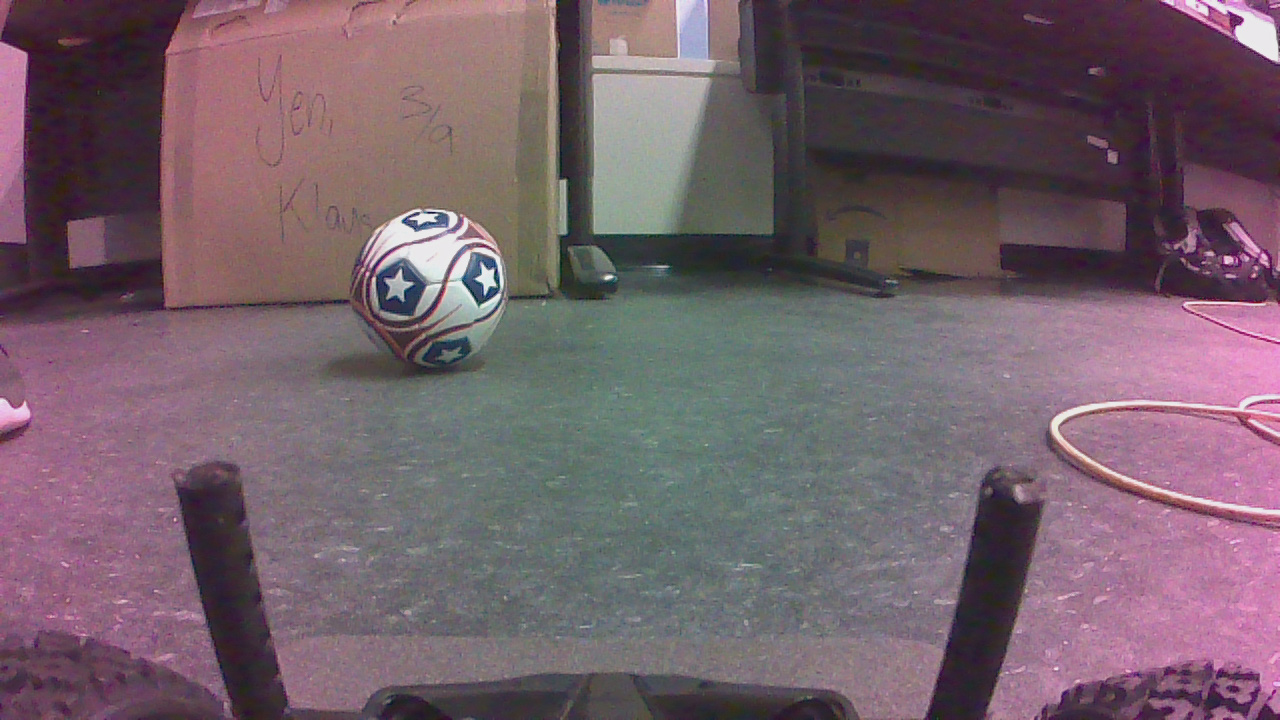ball: (343, 214, 518, 376)
